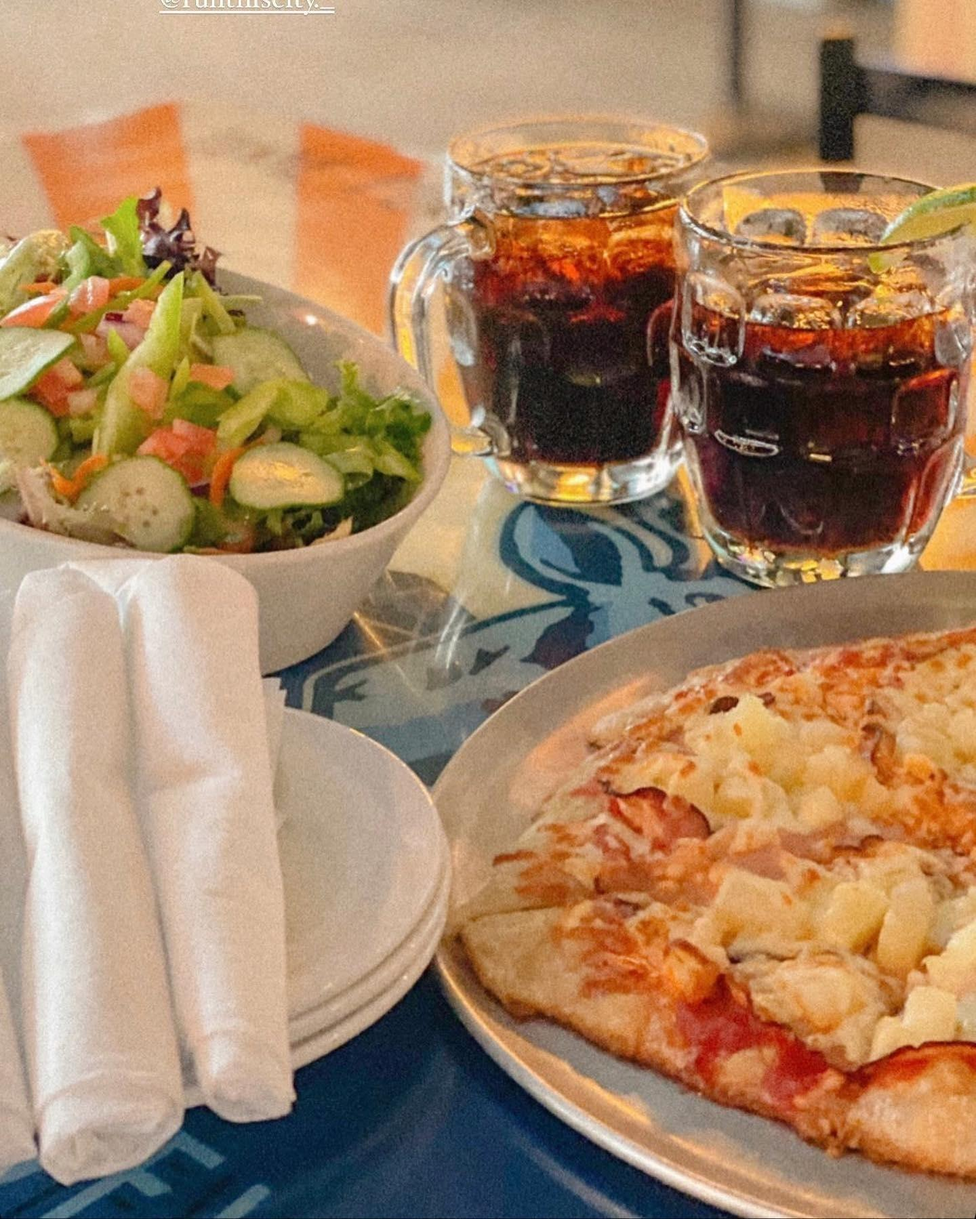glass-mug: (662, 152, 976, 589), (384, 111, 712, 512)
